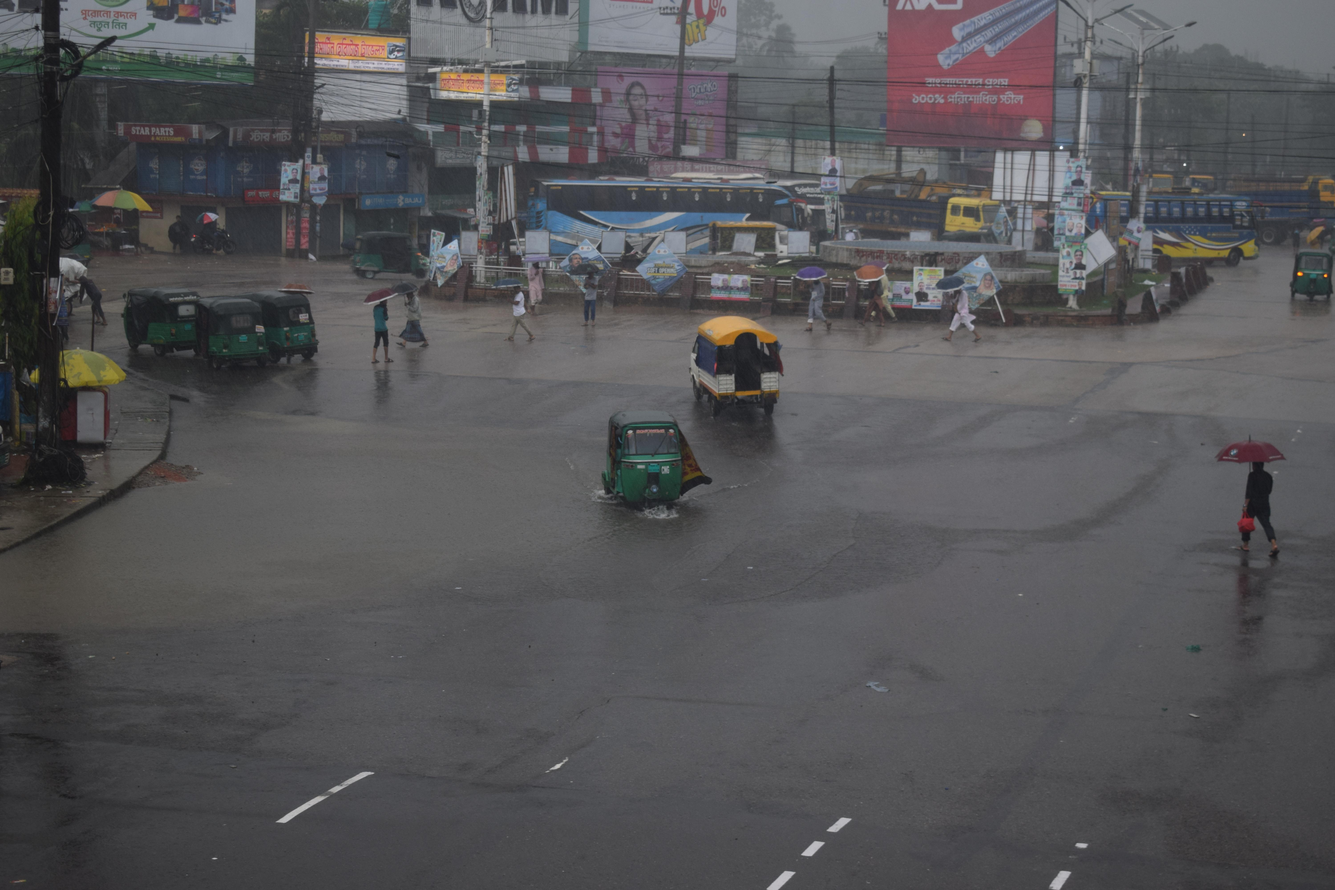Bus: (513, 170, 819, 289), (1083, 175, 1286, 293)
Car: (659, 306, 829, 463)
Truck: (827, 178, 1010, 264)
